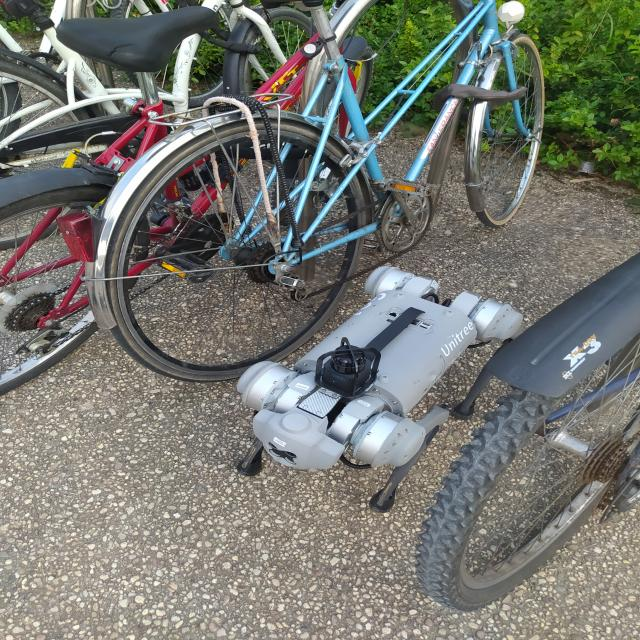unitree-go1-robot: (232, 247, 527, 508)
